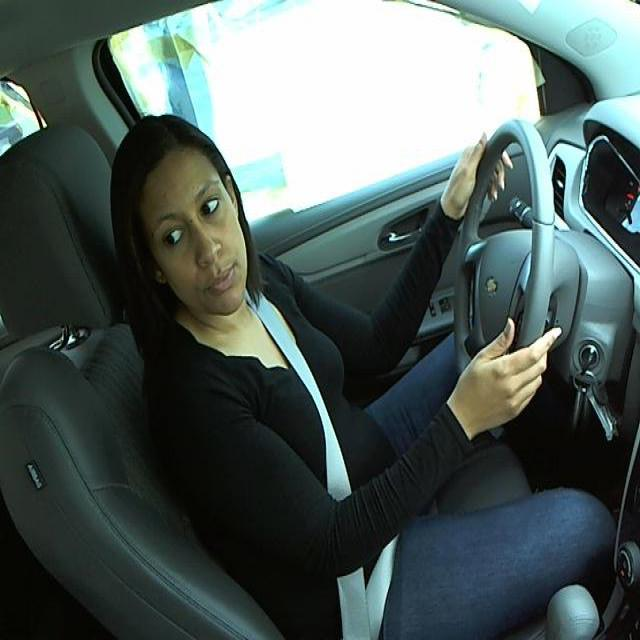seatbelt: (269, 311, 389, 638)
